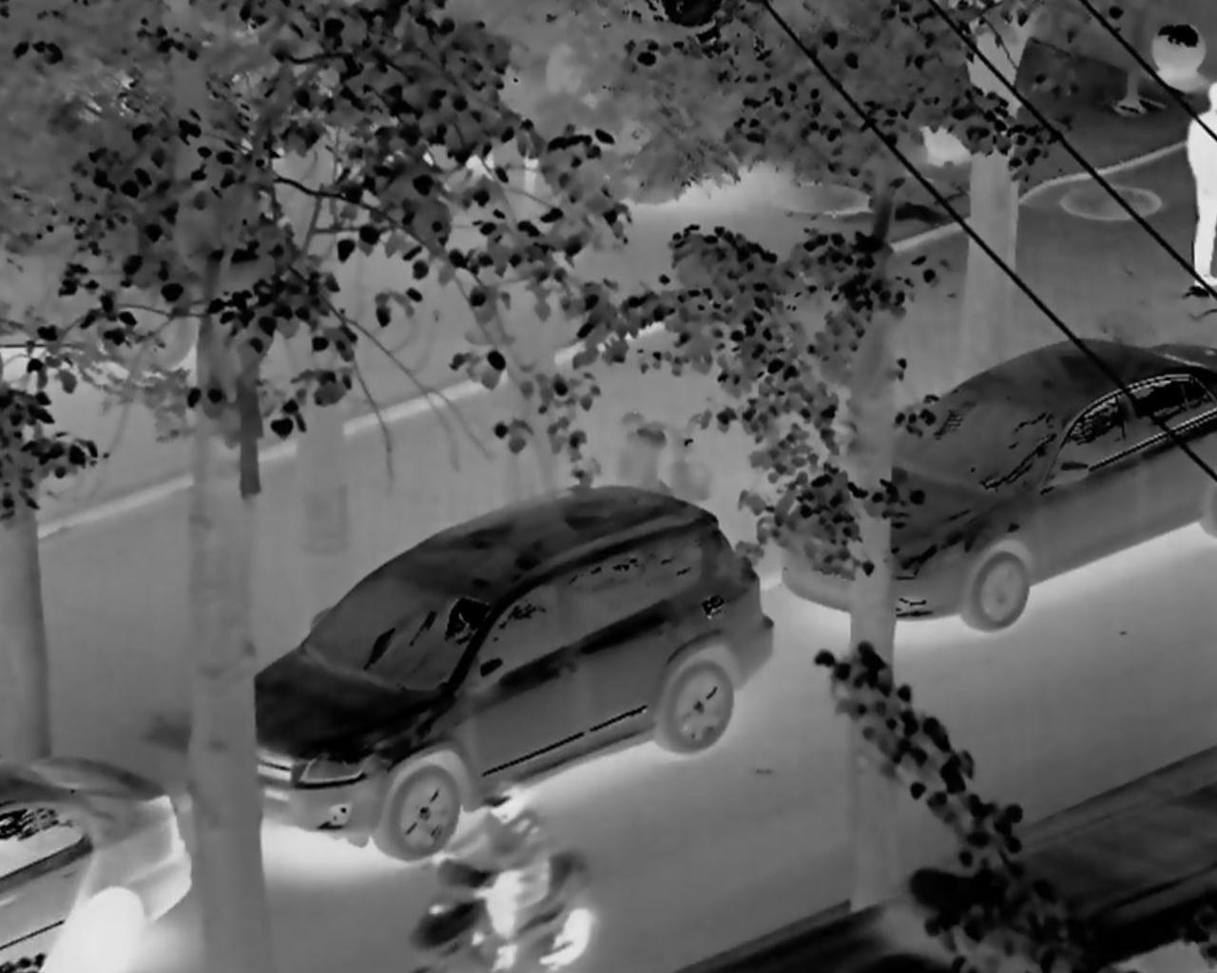person: (380, 764, 634, 973), (1164, 87, 1217, 287)
